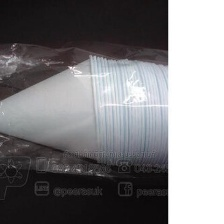paper_cup: (0, 49, 167, 176)
